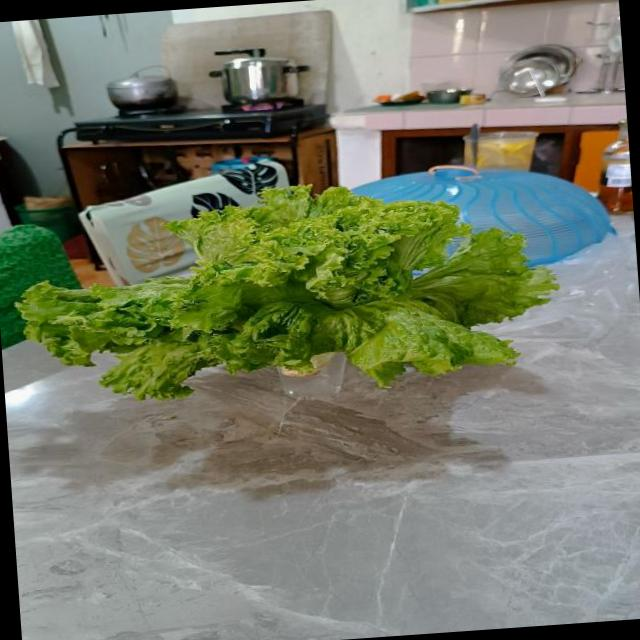Lettuce-Ready-to-Harvest: (18, 186, 556, 398)
